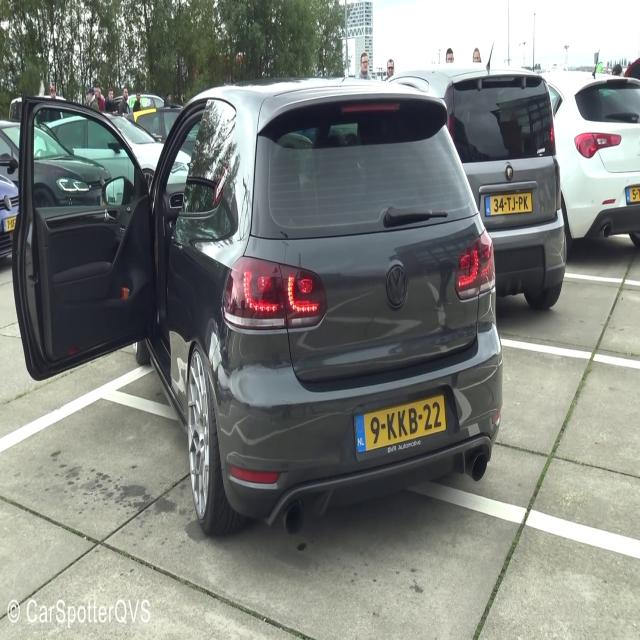number_plate: (352, 390, 450, 448)
